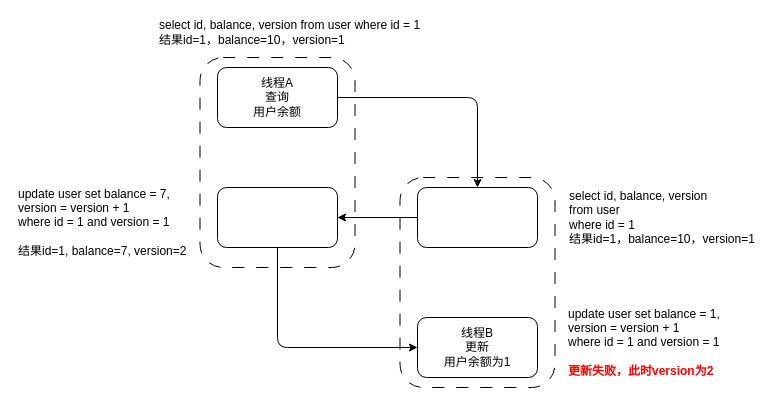
The diagram is 774 pixels wide and 405 high, and some of its shapes have lost their labels. The centre of each missing label's shape, as x and y in pixels:
"线程A 更新 用户余额为7" belongs at (x=277, y=217).
"线程B 查询 用户余额" belongs at (x=477, y=217).
